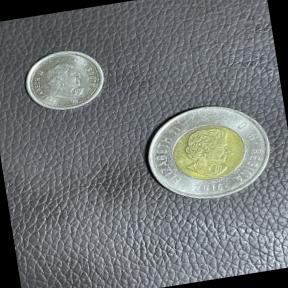Canada-10cent-B: (13, 40, 115, 121)
Canada-2Dollar-B: (129, 93, 283, 215)
